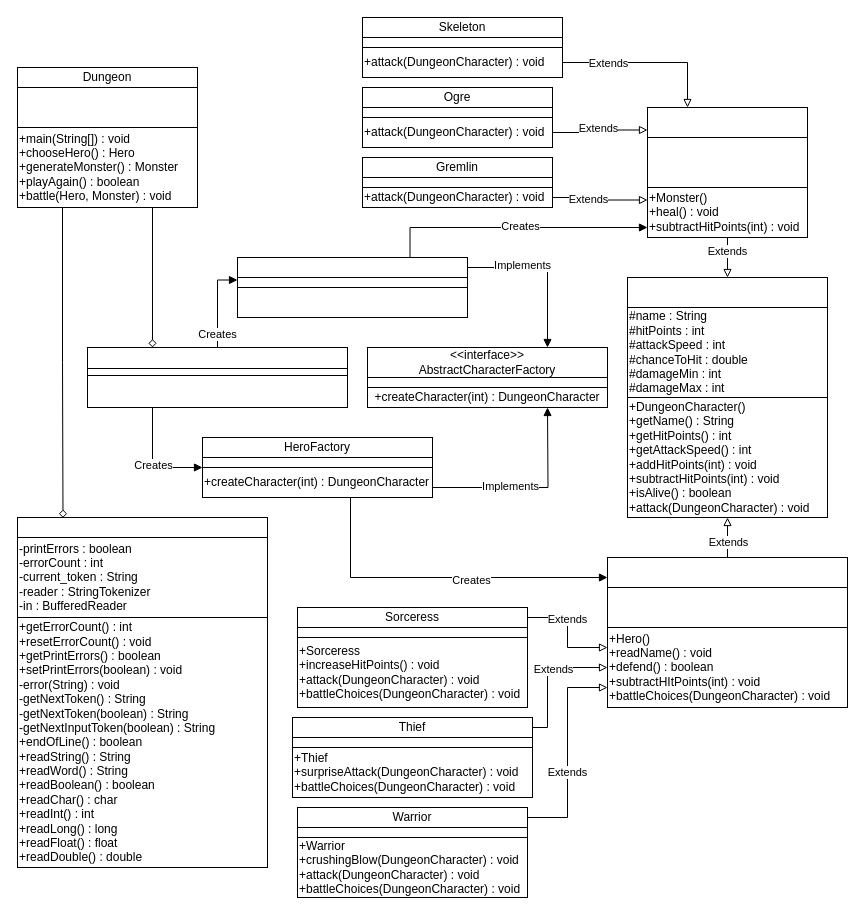
This 865x915 diagram has some shape labels left out. Here are the shapes that lost their labels. From the top down, the centre of each, then its label:
pixel 107 107: +theHero : Hero +theMonster : Monster
pixel 727 122: <<abstract>> Monster
pixel 727 162: #chanceToHeal : double #minHeal : int #maxHeal : int
pixel 352 267: MonsterFactory
pixel 352 302: createCharacter(int) : DungeonCharacter
pixel 727 292: <<abstract>> DungeonCharacter
pixel 217 357: CharacterFactoryProducer
pixel 217 391: +createFactory(int) : AbstractCharacterFactory
pixel 142 527: Keyboard
pixel 727 572: <<abstract>> Hero
pixel 727 607: #chanceToBlock : double #numTurns : int
